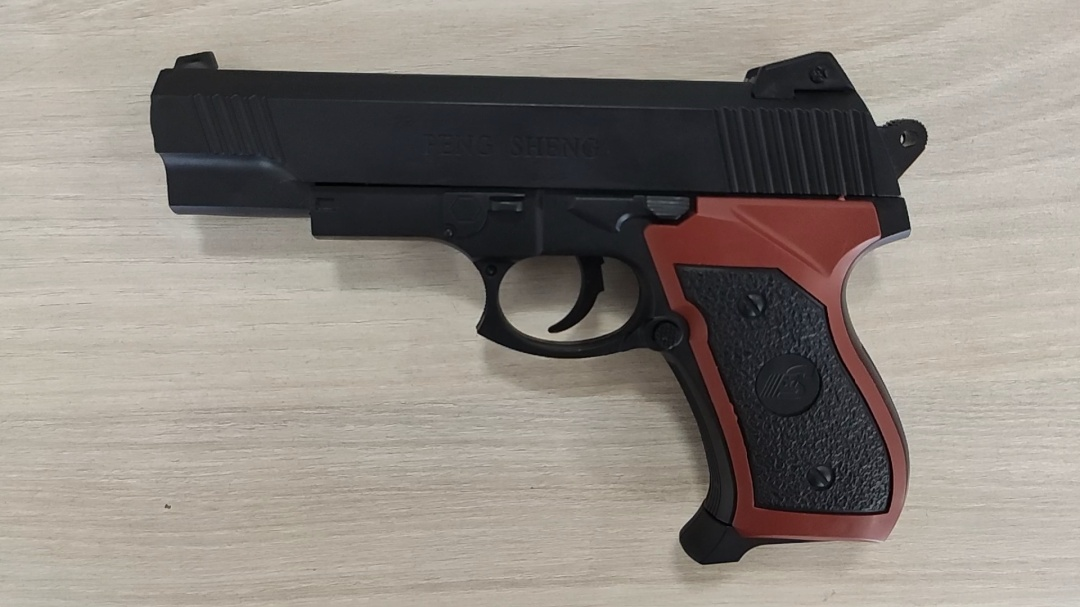gun: (411, 227, 560, 315)
